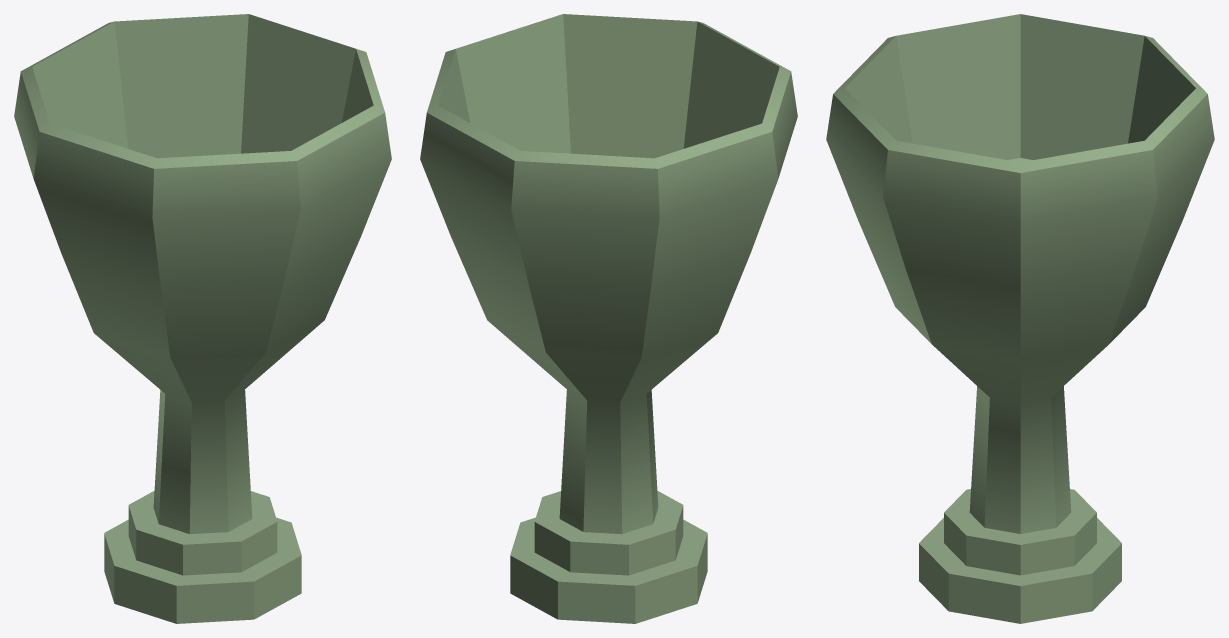
File: Award_Cup.fbx
3 views of the same model, side by side, from view 1: azimuth 30°, elevation 25°; view 2: azimuth 150°, elevation 25°; view 3: azimuth 270°, elevation 25° (orthographic).
Parts seen in each view (by area): view 1: Award_Cup; view 2: Award_Cup; view 3: Award_Cup.
Part boxes in pixels (bbox=[...]): Award_Cup: bbox=[14, 14, 391, 623]; Award_Cup: bbox=[420, 14, 797, 623]; Award_Cup: bbox=[826, 14, 1214, 623].
Bounding box in the file's own units: 21.02 × 29.42 × 21.02.
